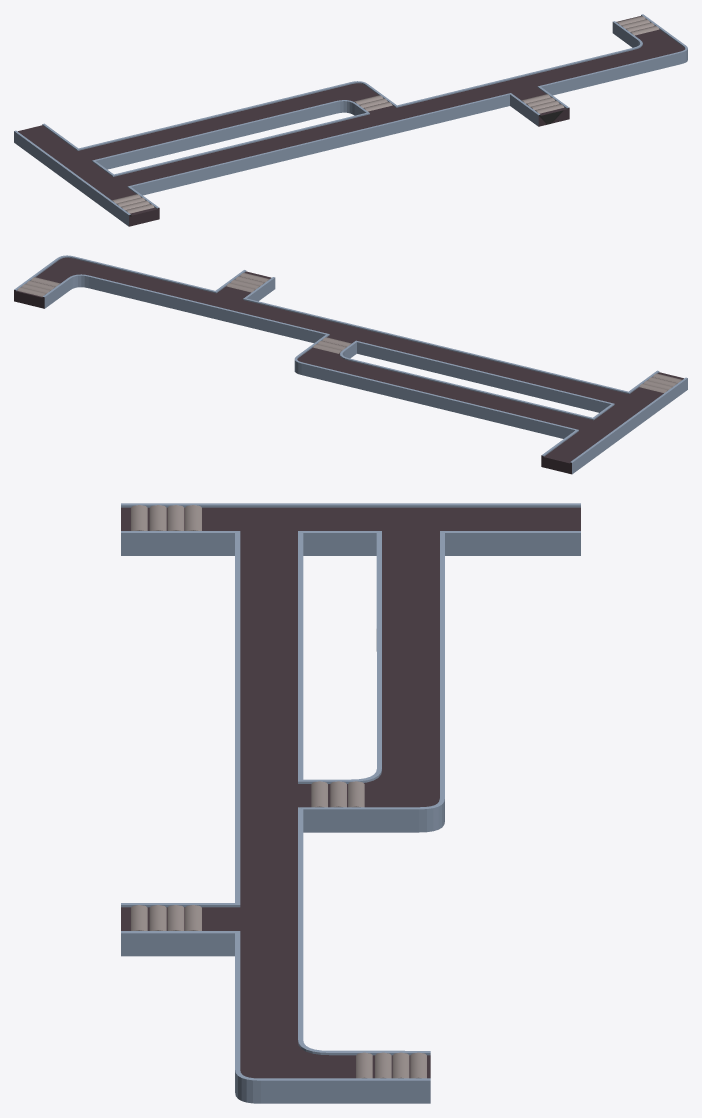
Rendered from LvDai1_Mo.fbx.
3 views of the same model, one above another, from view 1: azimuth 30°, elevation 25°; view 2: azimuth 150°, elevation 25°; view 3: azimuth 270°, elevation 25° (orthographic). The views are drawn at different scales.
Parts seen in each view (by area): view 1: 123123; view 2: 123123; view 3: 123123.
Boxes of the visible parts, x1=… form: 123123: x1=14, y1=14, x2=687, y2=226; 123123: x1=14, y1=255, x2=687, y2=474; 123123: x1=121, y1=503, x2=580, y2=1103.
Bounding box in the file's own units: 5249 × 101 × 1767.
Materials: 1 (1 with a texture image).
